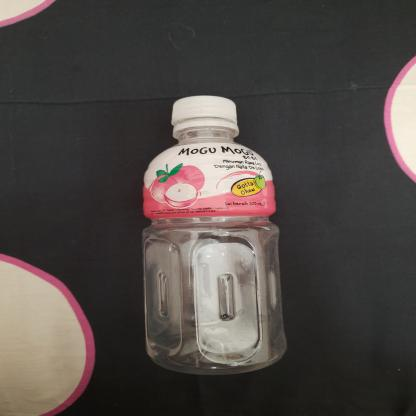plastic: (132, 93, 294, 376)
